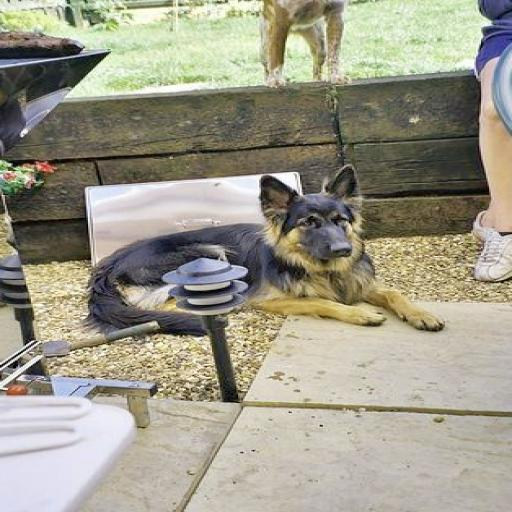dog_face: (247, 165, 368, 265)
